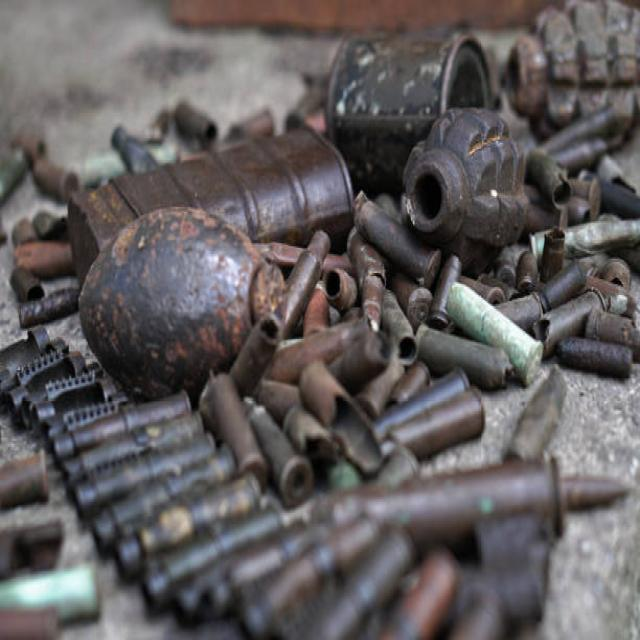grenade: (397, 103, 525, 267), (505, 1, 640, 144)
